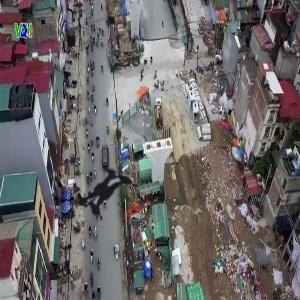drone: (20, 110, 188, 278)
